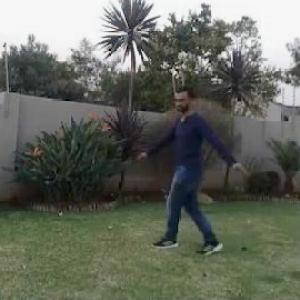land: (130, 70, 254, 274)
